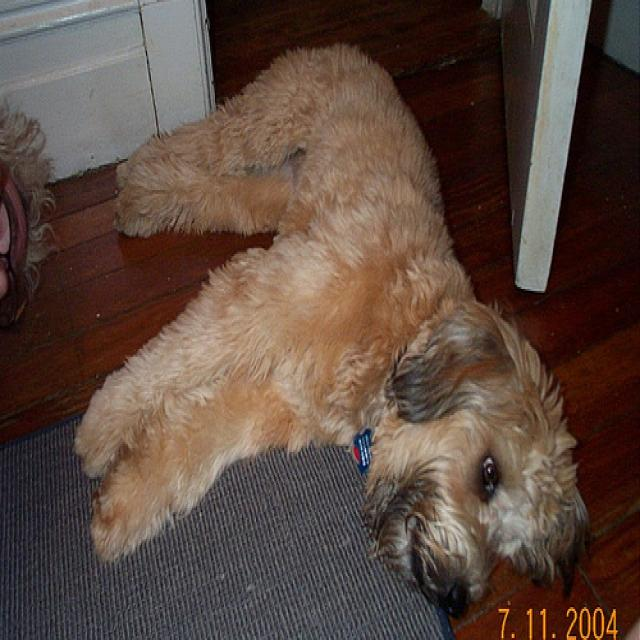dog-wheaten_terrier: (70, 39, 588, 626)
